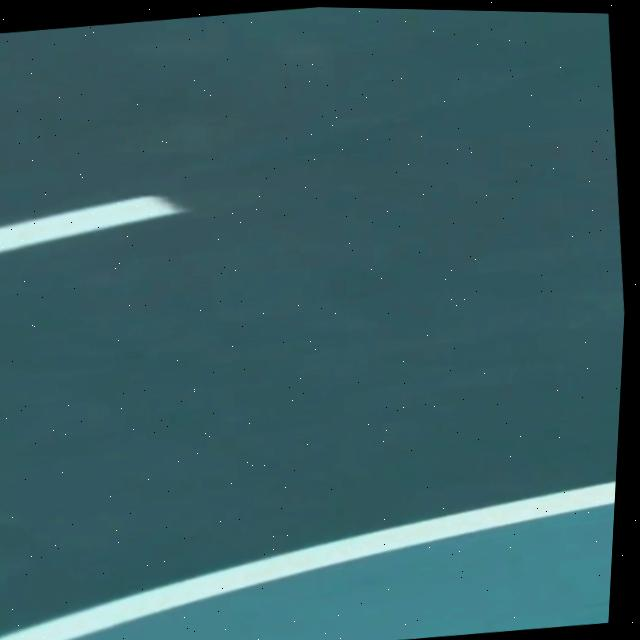center: (0, 196, 188, 252)
left: (0, 481, 616, 640)
